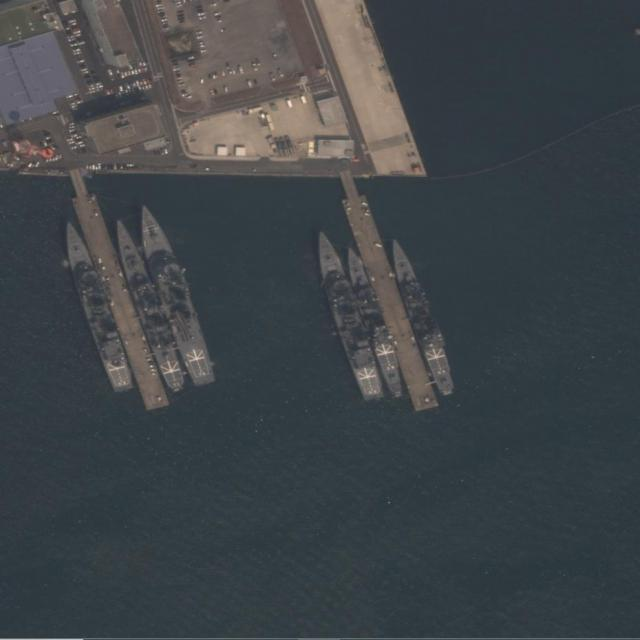Destroyer: (133, 200, 217, 387), (54, 215, 138, 394), (306, 224, 387, 405), (110, 217, 190, 396), (383, 235, 456, 394), (337, 246, 409, 396)
Dock: (335, 169, 437, 416), (65, 169, 168, 411)
